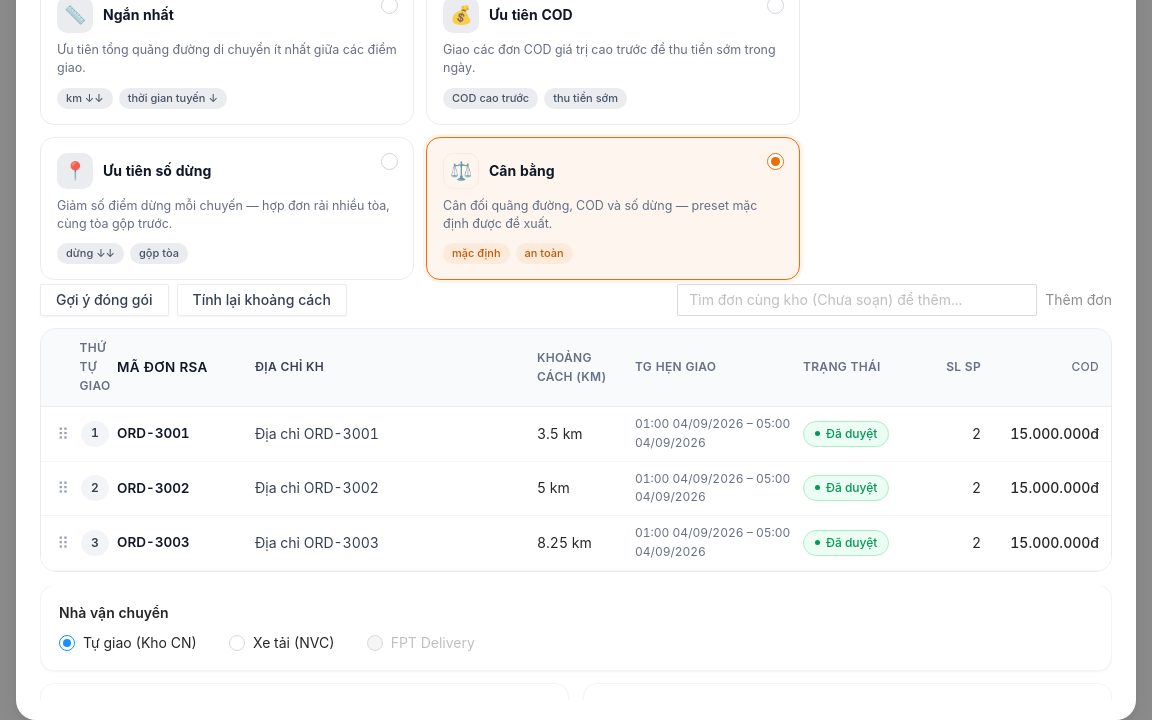
Test: CreateBatchingModal › SF-16: 3 nhóm carrier — KHO_CN default, FPT disabled, slot quotes chỉ hiện khi TRUCK
This screenshot has width=1152, height=720.
(page scrolled)
Check: the radio button with test id "carrier-group-KHO_CN" is checked, box [59,632,205,654]
Check: the radio button with test id "carrier-group-FPT_DELIVERY" is disabled, box [367,632,483,654]
TRUCK → slot quotes xuất hiện (placeholder — bảng lắp ở Task 3)
Step 1. Click the radio button with test id "carrier-group-TRUCK" → (286, 643), box [229,632,343,654]
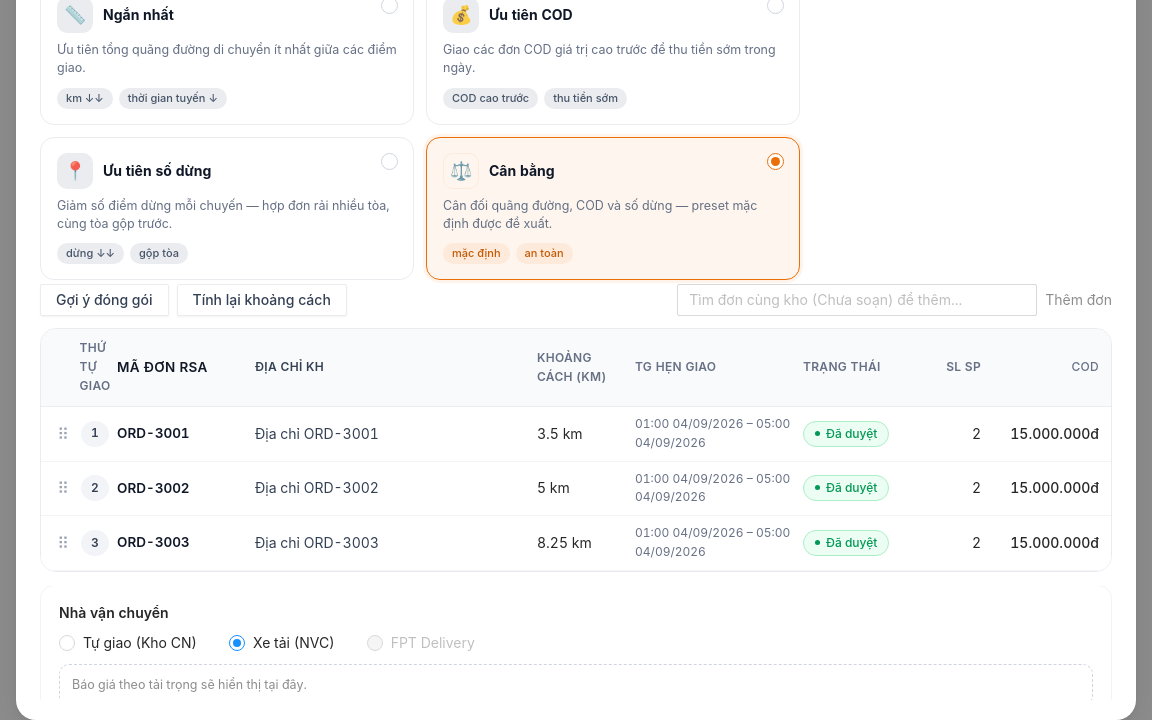
Check: the radio button with test id "carrier-group-TRUCK" is checked, box [229,632,343,654]
Check: the element with test id "carrier-quotes-slot" is shown, box [59,664,1093,700]
Về KHO_CN → slot ẩn lại
Step 2. Click the radio button with test id "carrier-group-KHO_CN" → (132, 643), box [59,632,205,654]
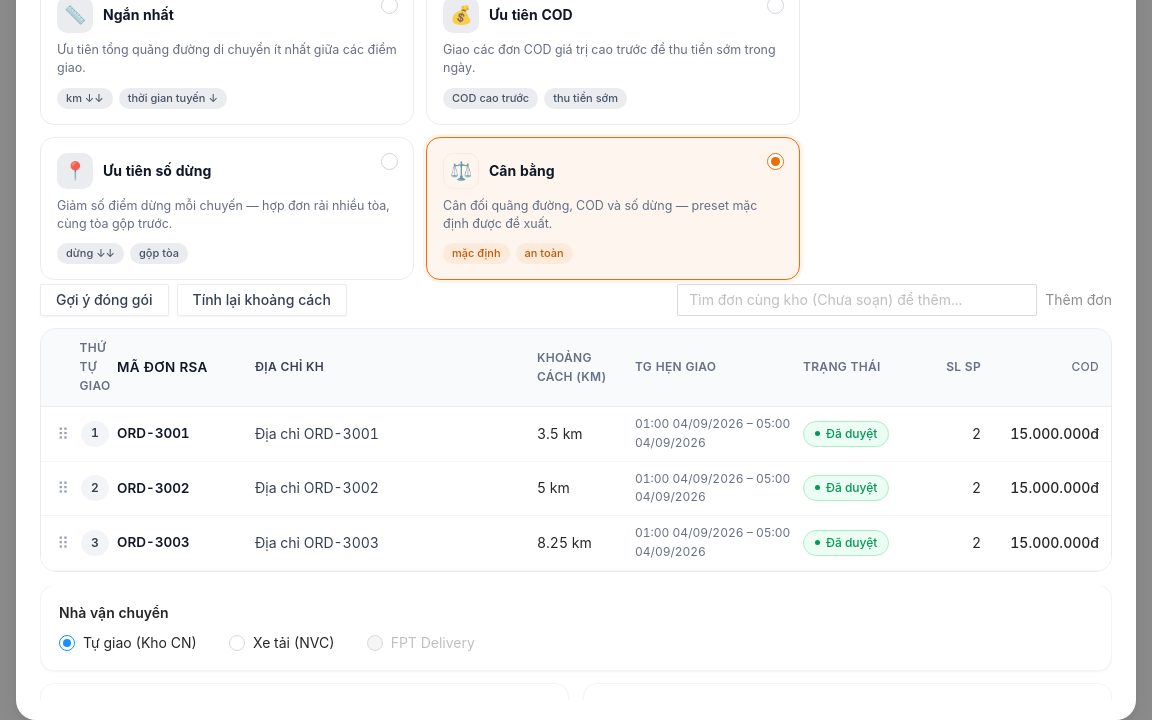
Check: the element with test id "carrier-quotes-slot" is gone
